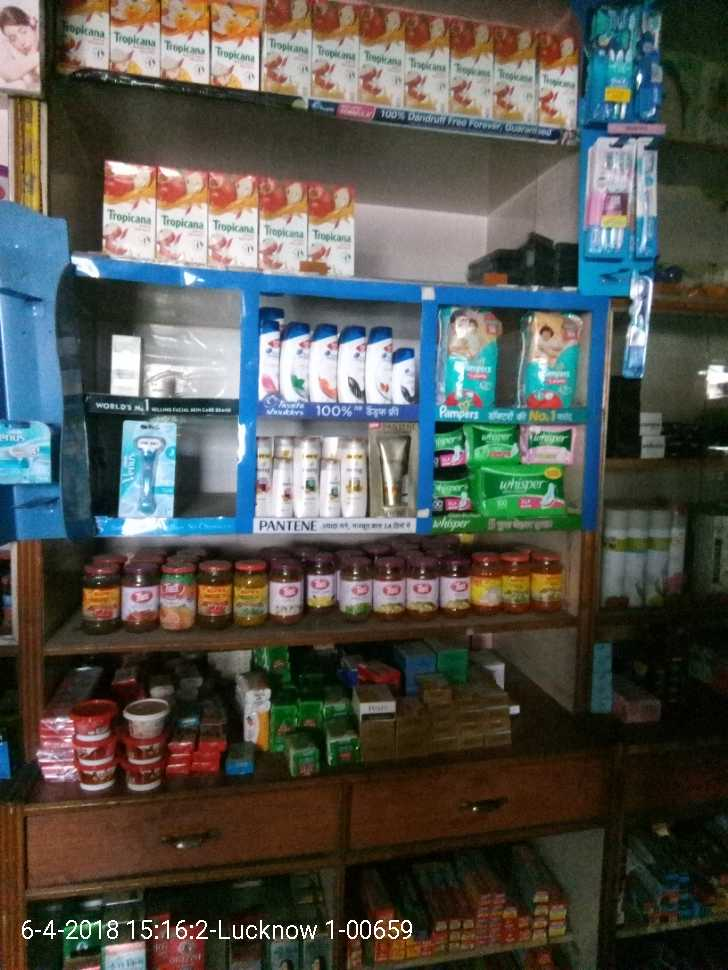venus: (120, 409, 179, 512)
